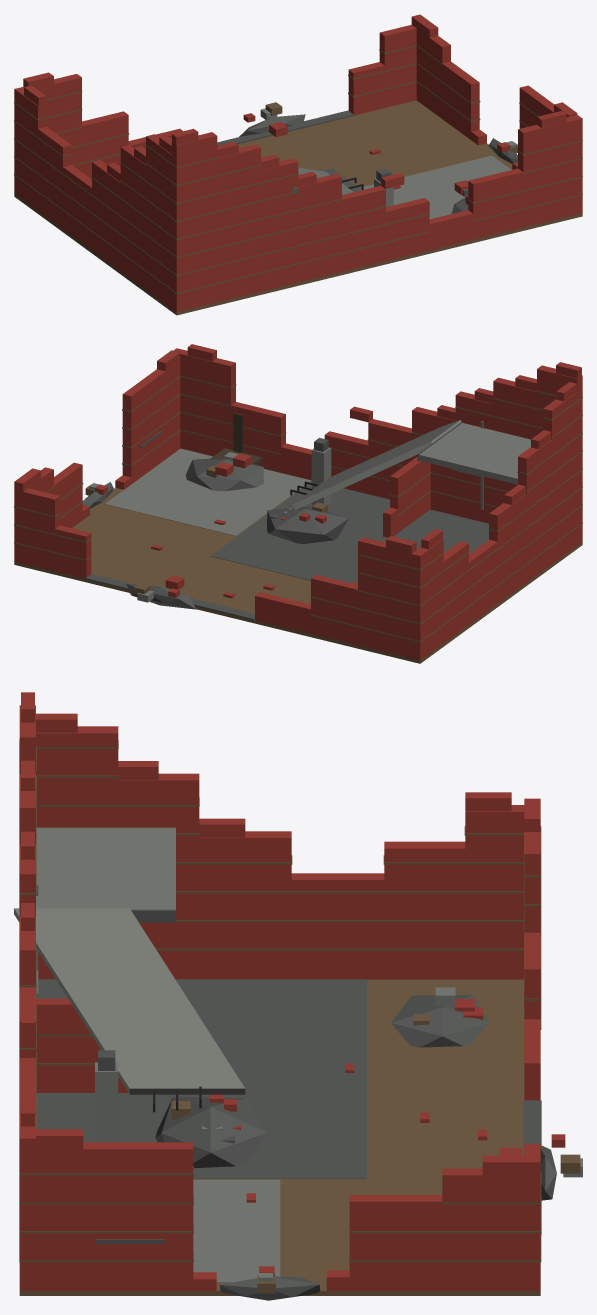
Rendered from ruin.glb.
3 renders of one model, top to bottom at view 1: azimuth 30°, elevation 25°; view 2: azimuth 150°, elevation 25°; view 3: azimuth 270°, elevation 25°, orthographic. The views are drawn at different scales.
Visible parts, largest first — view 1: ruin; view 2: ruin; view 3: ruin.
Part boxes in pixels (bbox=[...]): ruin: bbox=[14, 14, 582, 315]; ruin: bbox=[14, 344, 582, 663]; ruin: bbox=[14, 692, 582, 1300].
Size of what is drawn, in the model's own units: 13.37 by 5.72 by 9.83.
Materials: 1 (1 with a texture image).
